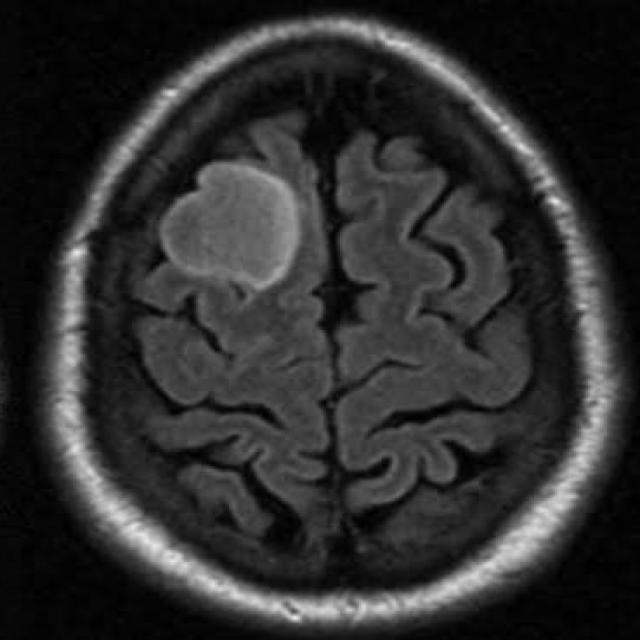Tumor-Cell: (153, 167, 324, 302)
